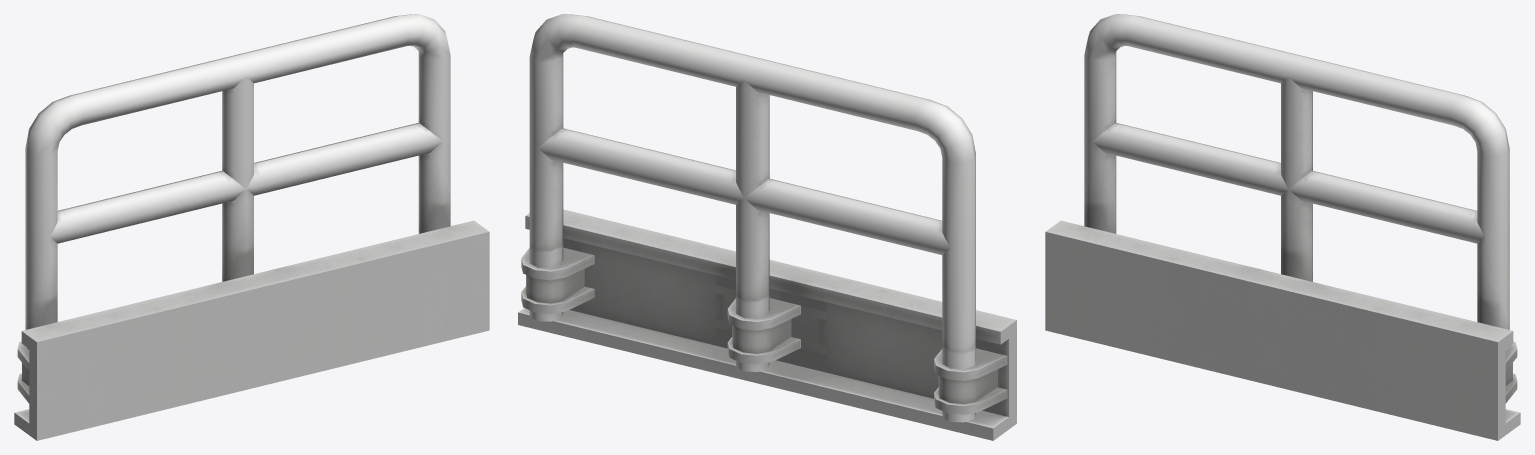
File: Pfb_Stairs_New.fbx
3 views of the same model, side by side, from view 1: azimuth 30°, elevation 25°; view 2: azimuth 150°, elevation 25°; view 3: azimuth 330°, elevation 25° (orthographic). The views are drawn at different scales.
Visible parts, largest first — view 1: Mat_Stairs; view 2: Mat_Stairs; view 3: Mat_Stairs.
Part boxes in pixels (bbox=[...]): Mat_Stairs: bbox=[14, 14, 489, 440]; Mat_Stairs: bbox=[518, 14, 1016, 440]; Mat_Stairs: bbox=[1045, 14, 1520, 440].
Bounding box in the file's own units: 2 × 1.32 × 0.2781.
1 material, 1 textured.
